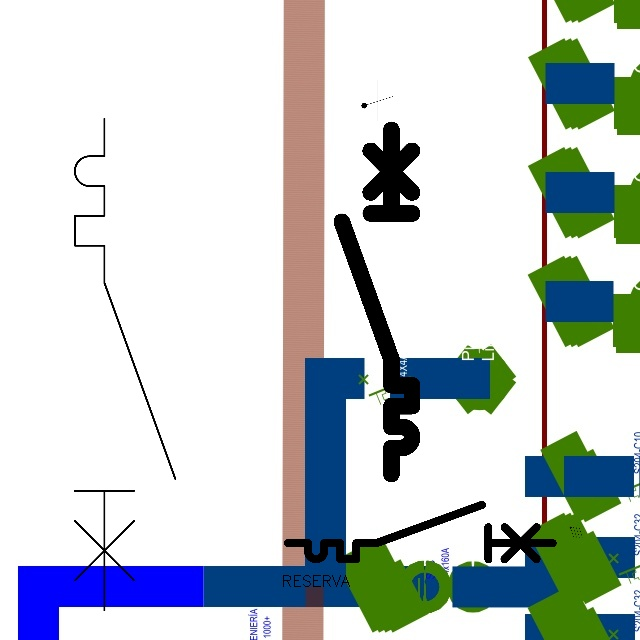interruptor_termomagnetico: (62, 106, 188, 622), (333, 120, 421, 482), (281, 498, 560, 566)
